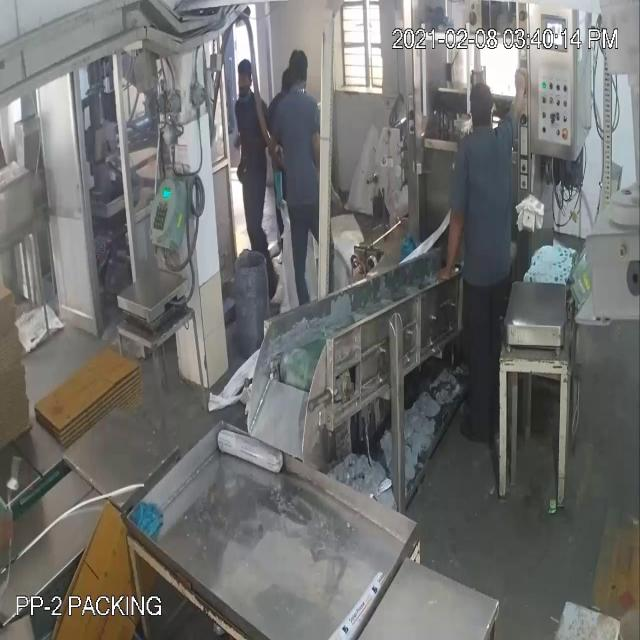gloves: (266, 144, 292, 216)
no-gloves: (437, 204, 467, 289), (508, 55, 526, 142)
